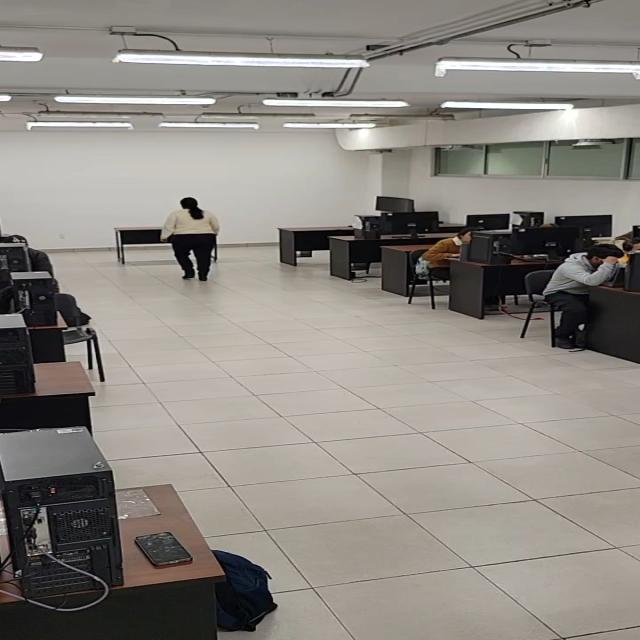Persona: (162, 195, 218, 281)
